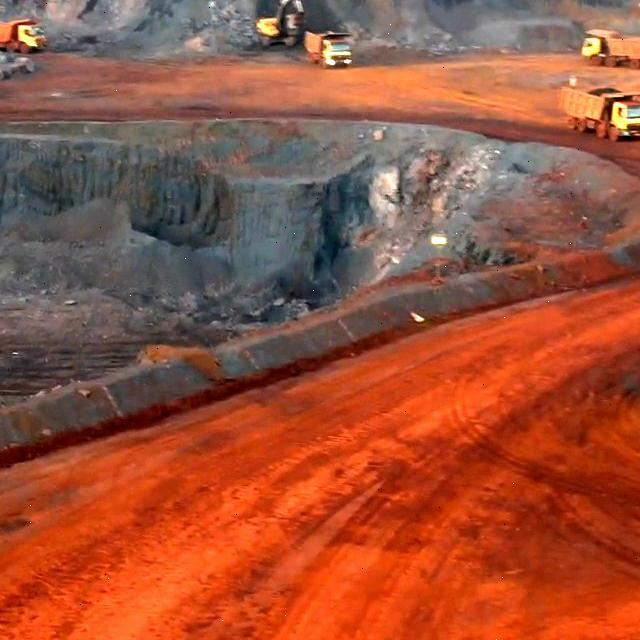Dumper truck: (576, 92, 640, 137), (584, 36, 640, 65)
Excavator: (249, 11, 300, 44)
